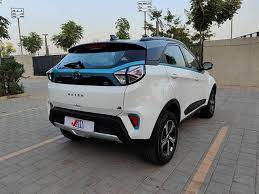Tata Nexon: (43, 38, 217, 165)
